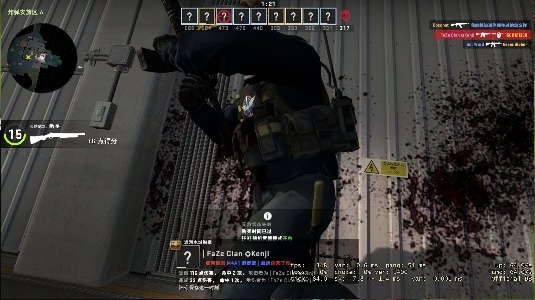body: (172, 4, 364, 299)
